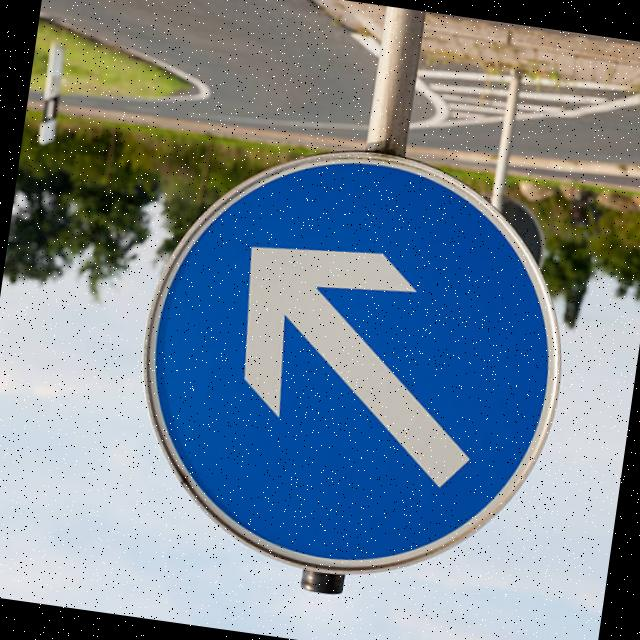compulsory_keep_right: (110, 118, 598, 606)
